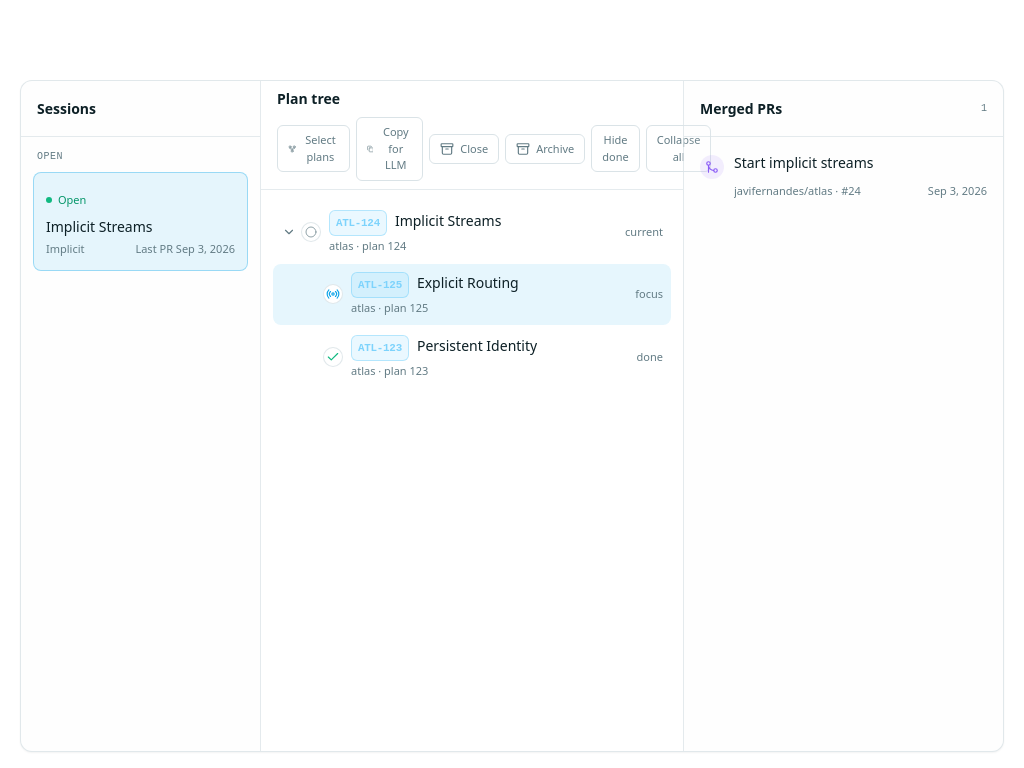
it: ExecutionStreamView › filters done Plans and collapses or expands tree branches locally
Click the button named "Collapse Implicit Streams": (289, 232) x1=277 y1=220 x2=301 y2=244
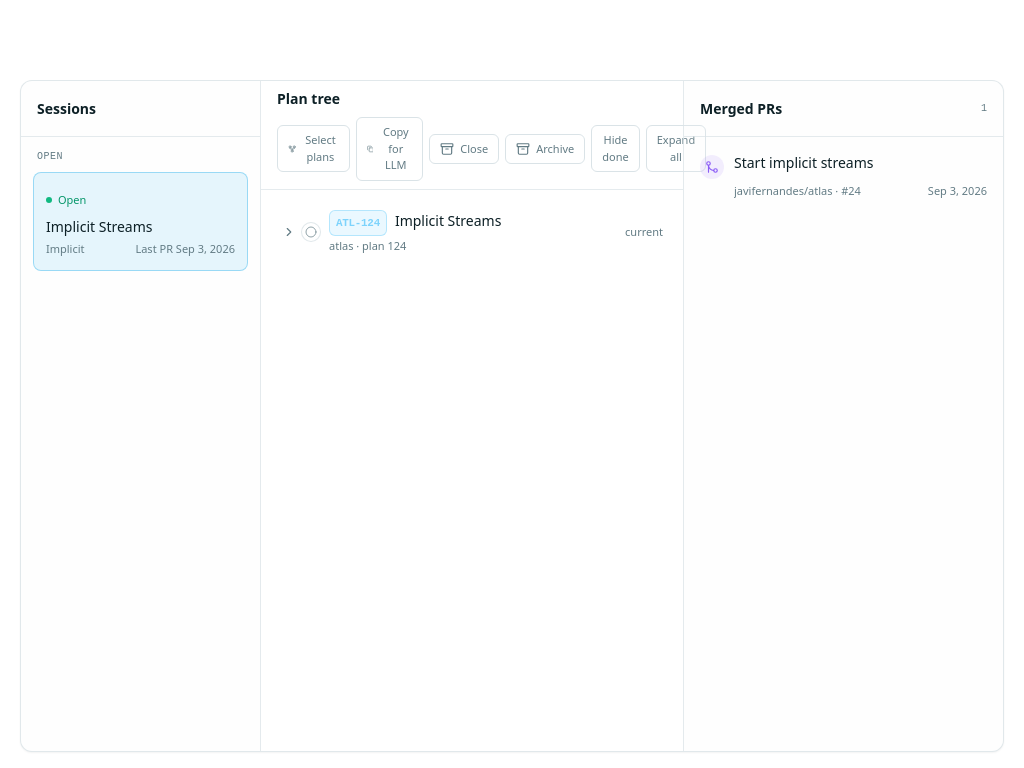
Now the button "Persistent Identity" is gone
Now the button "Explicit Routing" is gone
Click the button named "Expand Implicit Streams": (289, 232) x1=277 y1=220 x2=301 y2=244
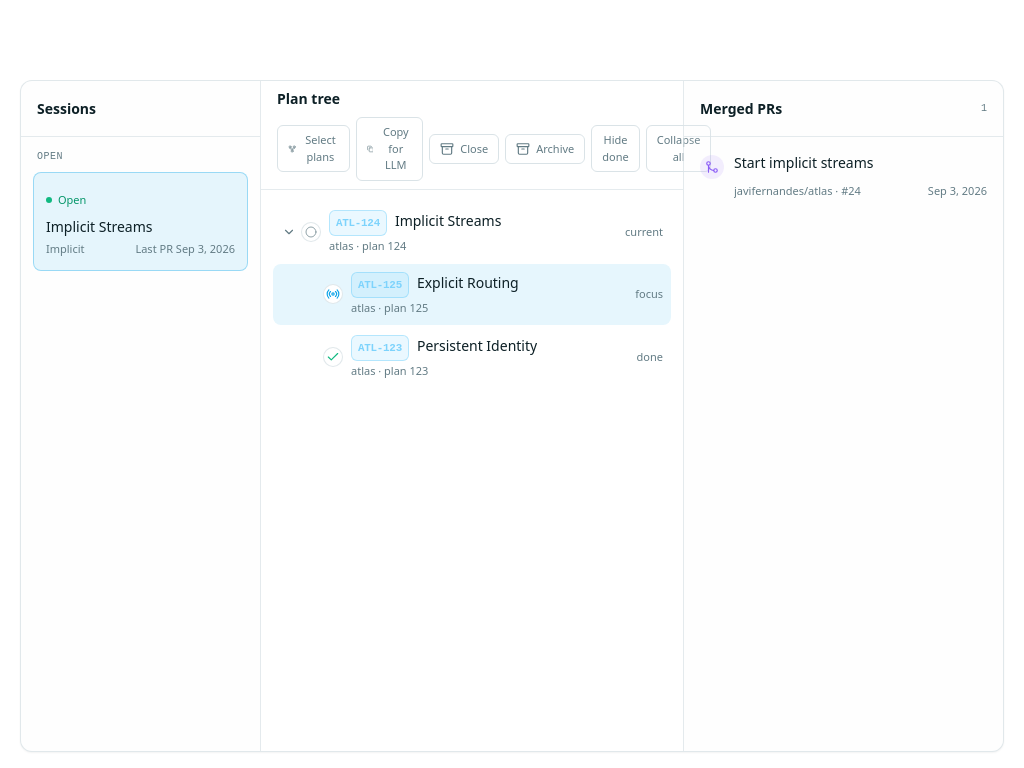
Now the button "ATL-123 Persistent Identity atlas · plan 123 done" is shown, box x1=323 y1=326 x2=663 y2=387
Now the button "ATL-125 Explicit Routing atlas · plan 125 focus" is shown, box x1=323 y1=264 x2=663 y2=324
Click the button "Hide done": (616, 149) x1=591 y1=125 x2=640 y2=172
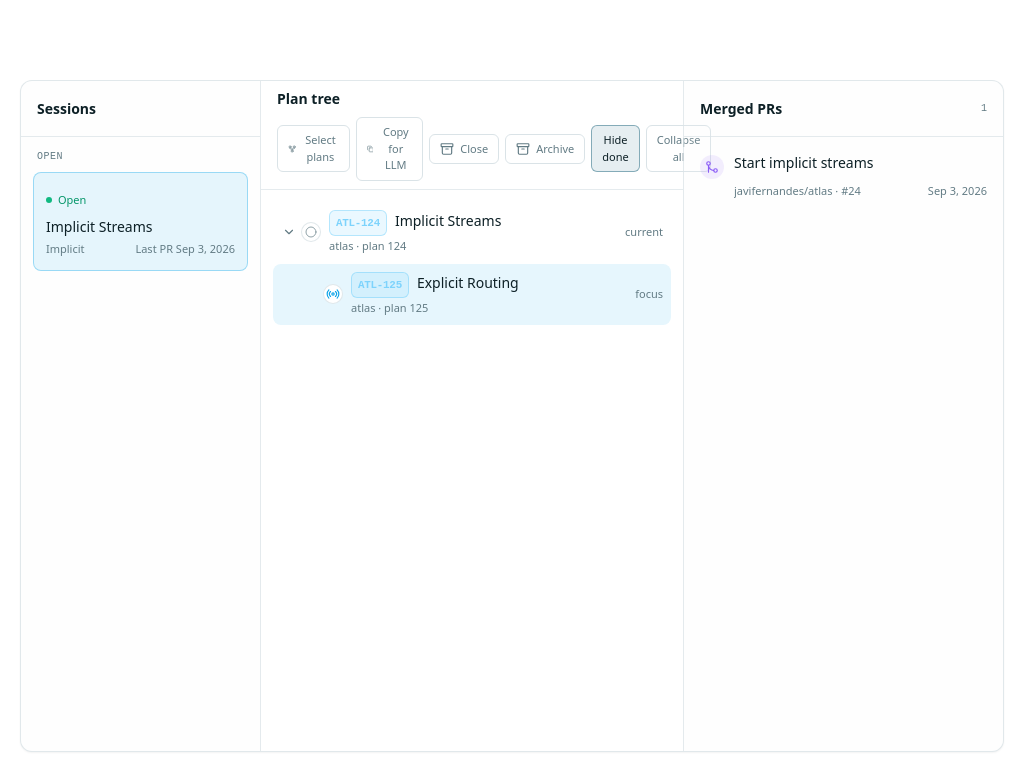
Now the button "ATL-125 Explicit Routing atlas · plan 125 focus" is shown, box x1=323 y1=264 x2=663 y2=324
Now the button "Persistent Identity" is gone
